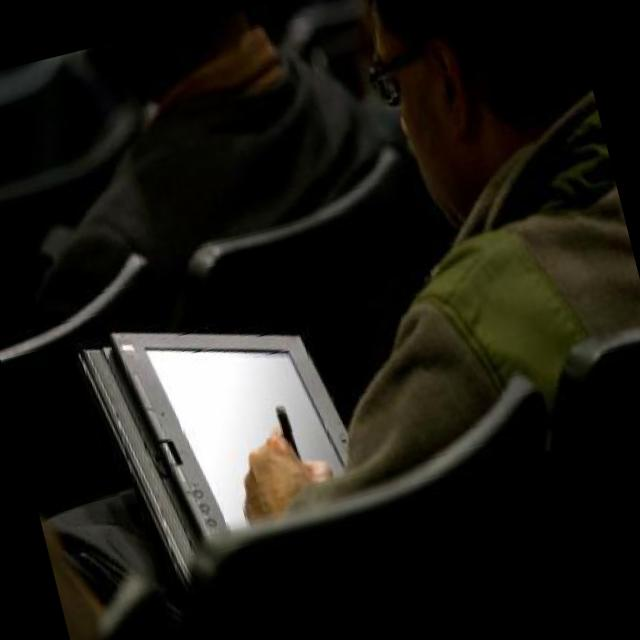Person: (126, 0, 640, 534)
